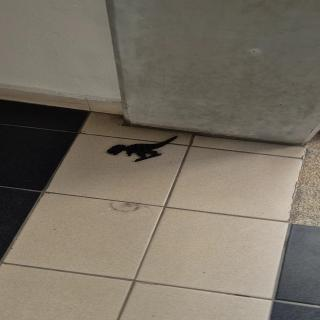dino: (106, 136, 178, 162)
